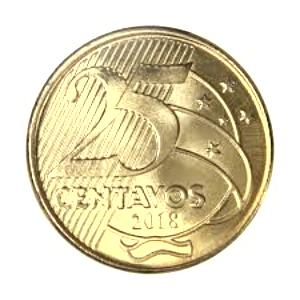25 cent: (25, 24, 274, 274)
